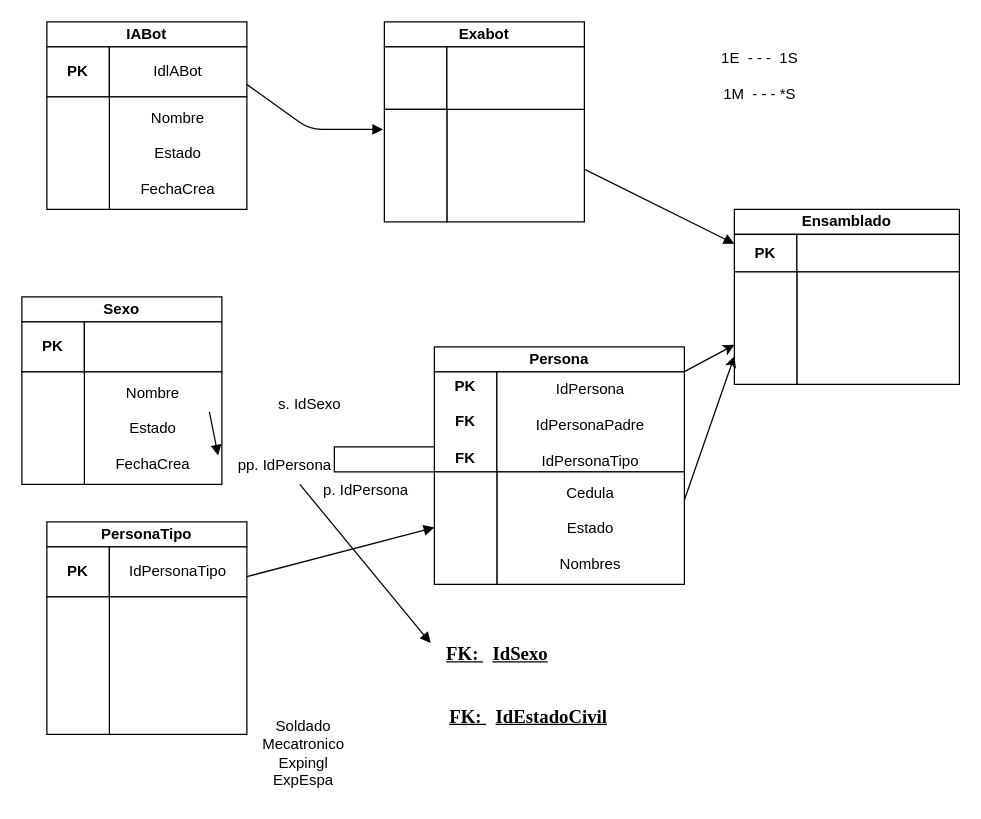
Image size: 981x819. Some labels were removed from this diagram. The shapes that lost their labels are listed below. From the top down, each one's centre as x and y in pixels, then its label:
the point at 415,77: PK FK
the point at 515,84: IdExabot IdlABot
the point at 515,165: Serie Estado FechaCrea
the point at 877,252: IdEnsamblado
the point at 152,346: IdSexo
the point at 765,327: FK FK FK
the point at 877,327: IdExobot IdPersonaSoldado IdPersonaMecatronico
the point at 383,459: Padre
the point at 177,665: Nombre Estado FechaCreacion FechaModifica
